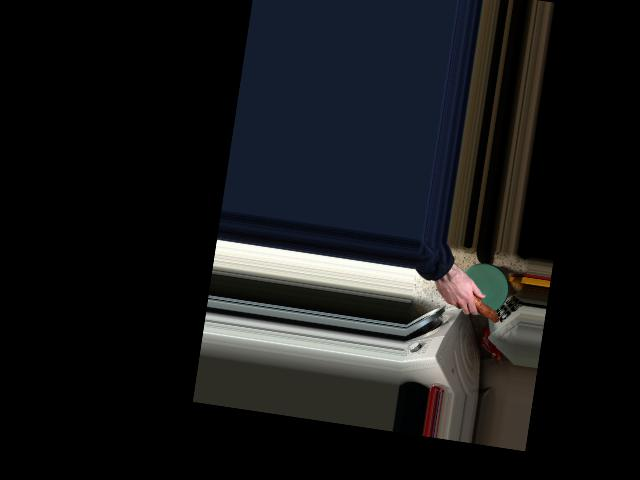sweet_potato: (446, 277, 502, 323)
